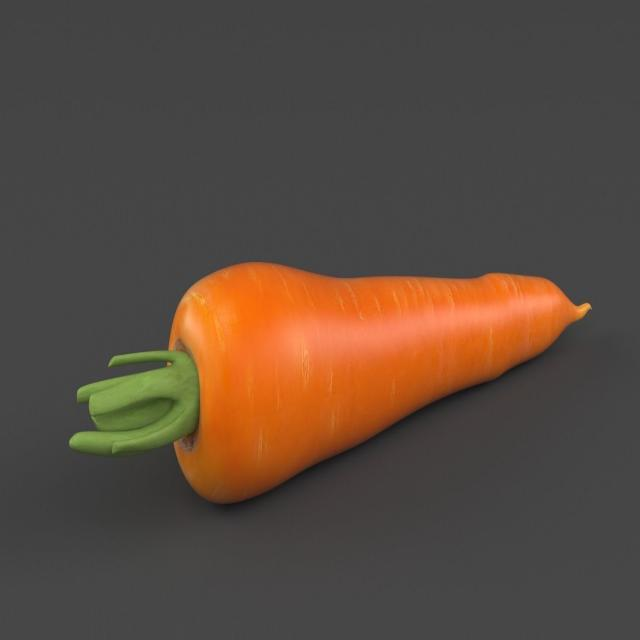carrot: (169, 238, 595, 505)
